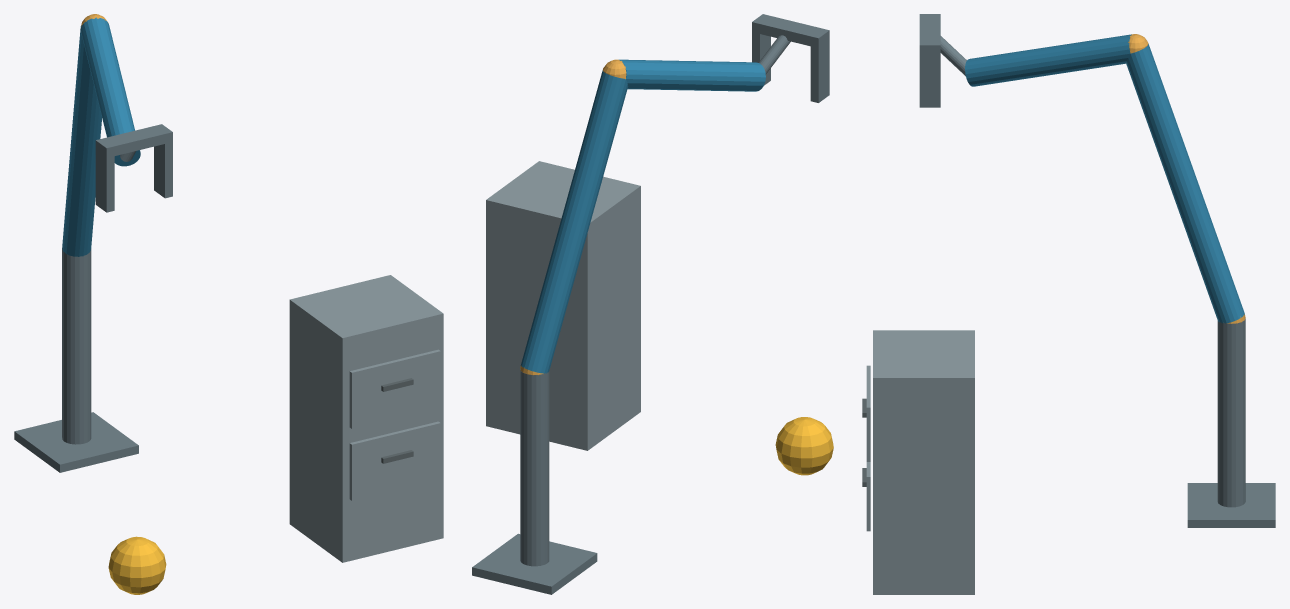
The picture shows the model from 3 angles, left to right: view 1: azimuth 30°, elevation 25°; view 2: azimuth 150°, elevation 25°; view 3: azimuth 270°, elevation 25°; orthographic projection. The views are drawn at different scales.
Visible parts, largest first — view 1: cabinet_1 body, fixed post, moving link 1, cabinet_1 drawer front, cabinet_1 drawer front.001, pedestal, moving link 2, ball ball_1, gripper bridge, gripper finger -1, gripper finger 1; view 2: cabinet_1 body, moving link 1, fixed post, moving link 2, pedestal, ball ball_1, gripper bridge, gripper finger -1, gripper finger 1, gripper wrist connector; view 3: cabinet_1 body, moving link 1, fixed post, moving link 2, pedestal, gripper finger 1, gripper bridge.
Boxes of the visible parts, left/top/right/bottom form: cabinet_1 body: left=289, top=275, right=443, bottom=562; fixed post: left=62, top=248, right=91, bottom=444; moving link 1: left=62, top=25, right=101, bottom=256; cabinet_1 drawer front: left=349, top=421, right=440, bottom=500; cabinet_1 drawer front.001: left=349, top=349, right=440, bottom=428; pedestal: left=14, top=412, right=138, bottom=472; moving link 2: left=80, top=17, right=140, bottom=166; ball ball_1: left=108, top=536, right=166, bottom=594; gripper bridge: left=95, top=124, right=172, bottom=157; gripper finger -1: left=95, top=150, right=114, bottom=212; gripper finger 1: left=154, top=142, right=172, bottom=198; cabinet_1 body: left=486, top=161, right=640, bottom=450; moving link 1: left=520, top=70, right=628, bottom=373; fixed post: left=520, top=370, right=549, bottom=566; moving link 2: left=619, top=59, right=765, bottom=91; pedestal: left=472, top=533, right=597, bottom=594; ball ball_1: left=775, top=417, right=833, bottom=475; gripper bridge: left=752, top=14, right=829, bottom=48; gripper finger -1: left=810, top=40, right=829, bottom=102; gripper finger 1: left=752, top=32, right=770, bottom=85; gripper wrist connector: left=758, top=35, right=790, bottom=74; cabinet_1 body: left=873, top=330, right=974, bottom=594; moving link 1: left=1126, top=44, right=1244, bottom=323; fixed post: left=1217, top=318, right=1245, bottom=507; moving link 2: left=965, top=34, right=1131, bottom=86; pedestal: left=1187, top=483, right=1275, bottom=527; gripper finger 1: left=919, top=55, right=940, bottom=107; gripper bridge: left=919, top=14, right=940, bottom=54.
Bounding box in the file's own units: 0.9905 × 1.44 × 1.17.
